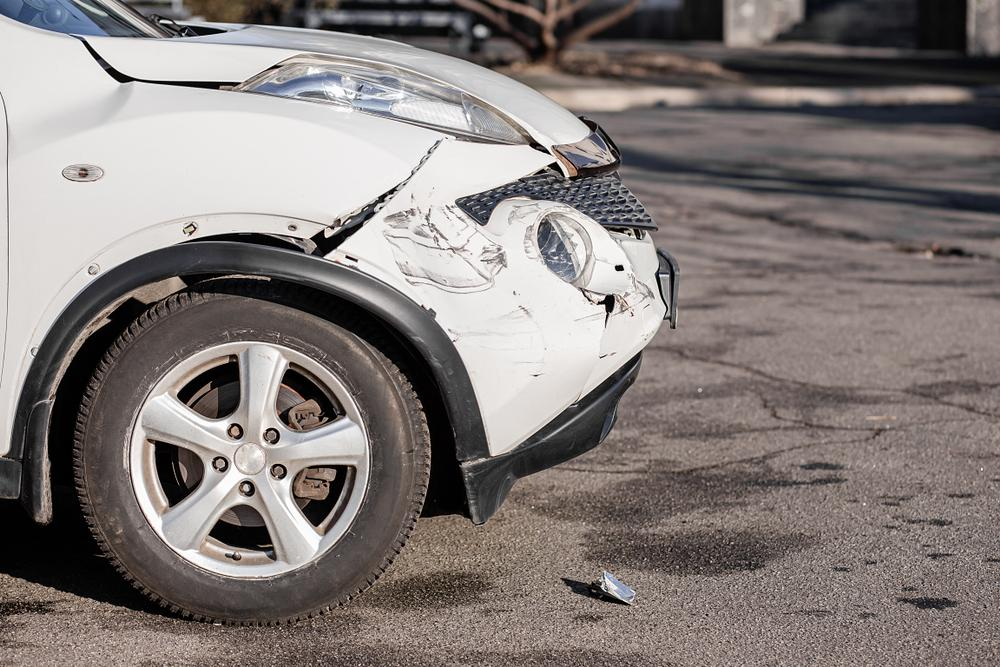crack: (579, 288, 618, 360)
scratch: (386, 208, 503, 289), (451, 298, 539, 345), (511, 199, 557, 261), (617, 272, 653, 315)
